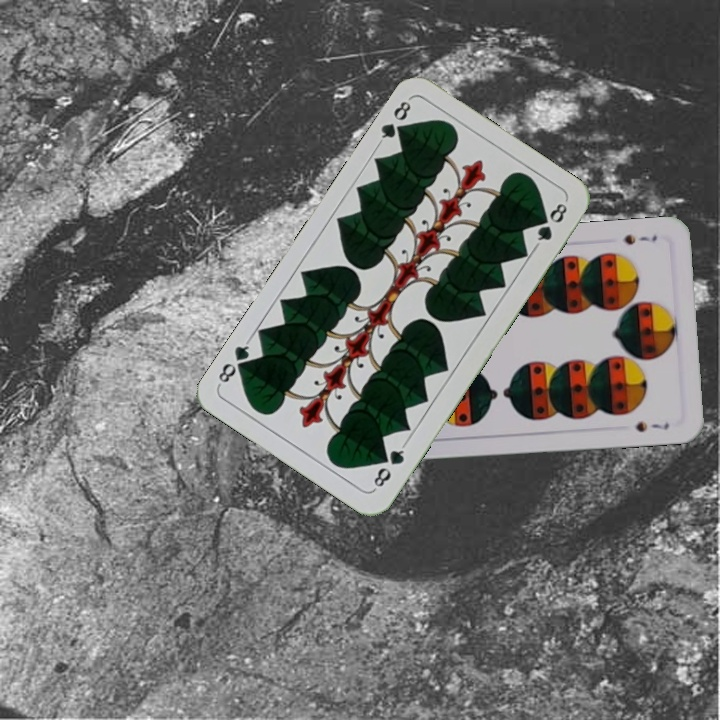G8: (369, 440, 408, 493), (374, 97, 414, 147)
S7: (618, 230, 659, 248)
